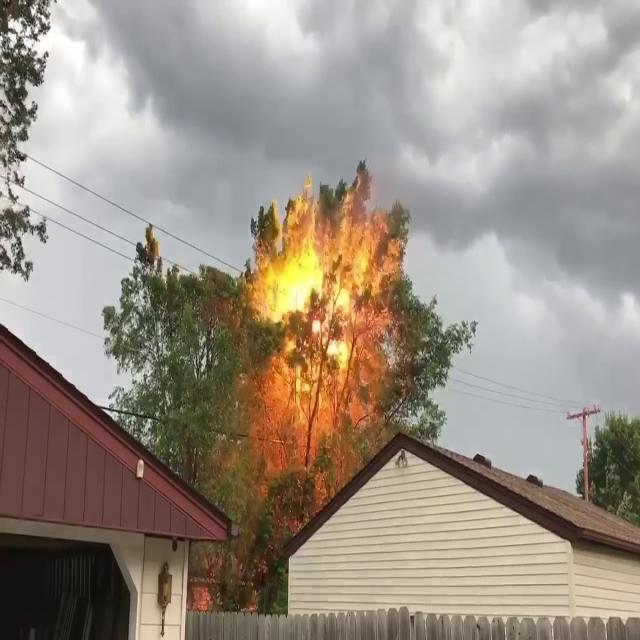Fire: (245, 195, 410, 473)
